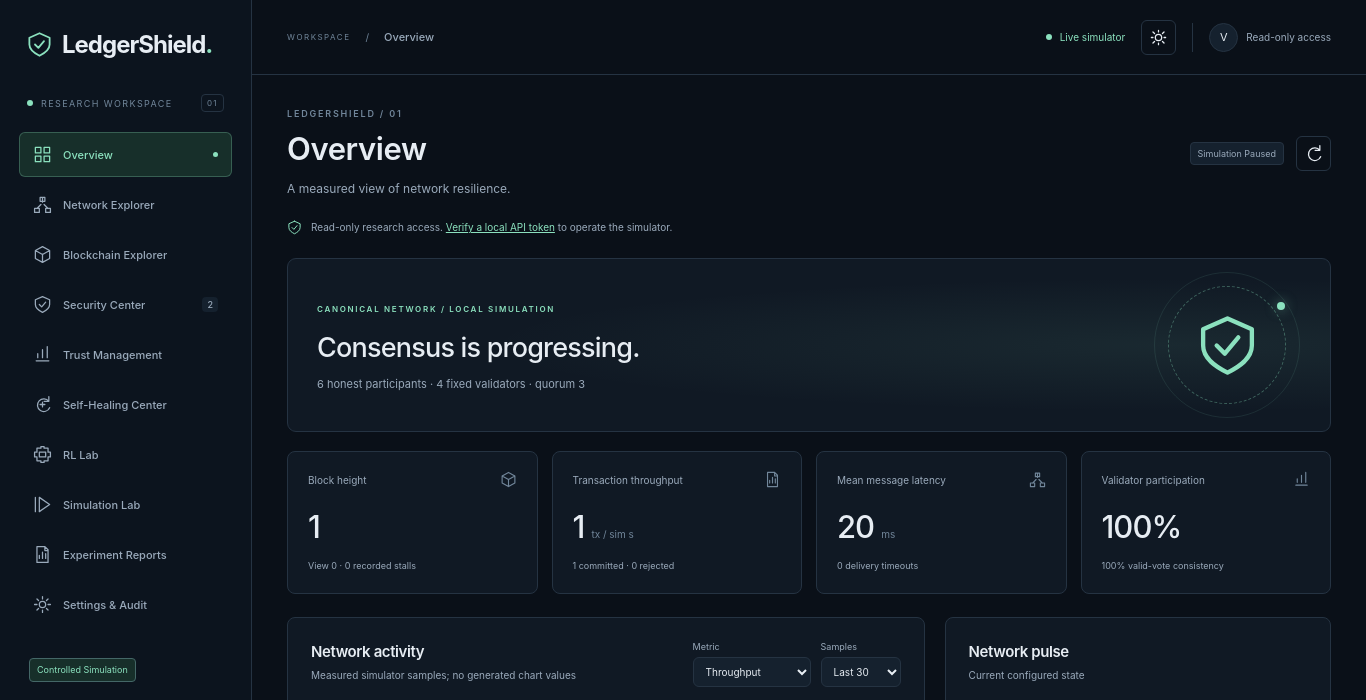
Scenario: research dashboard workflows › navigates to Simulation Lab with actual resource loading
Expected: the heading "Consensus is progressing." is shown, [317,329,640,366]
Click the link "Simulation Lab". click: (87, 504)
box: [33,495,140,514]
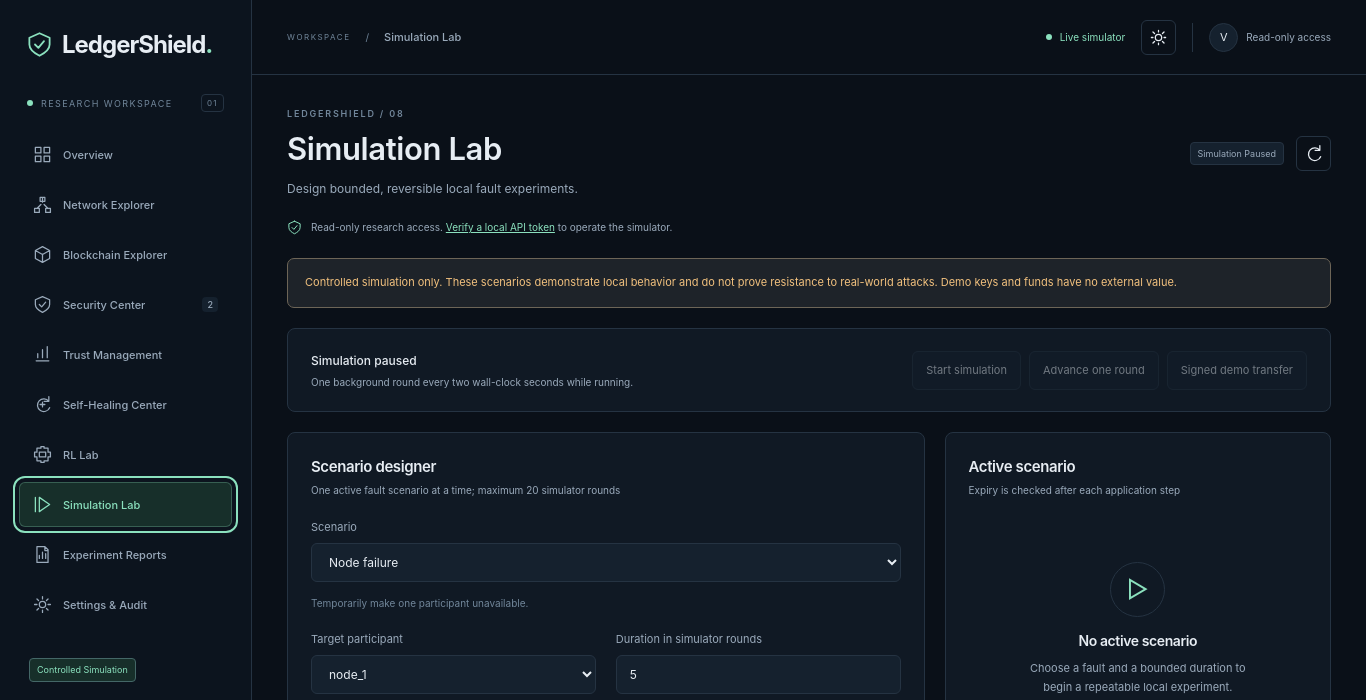
Expected: the heading "Simulation Lab" is shown, [287,130,502,167]
